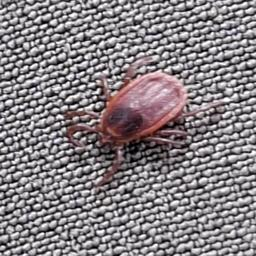Rhipicephalus sanguineus: (64, 56, 218, 192)
